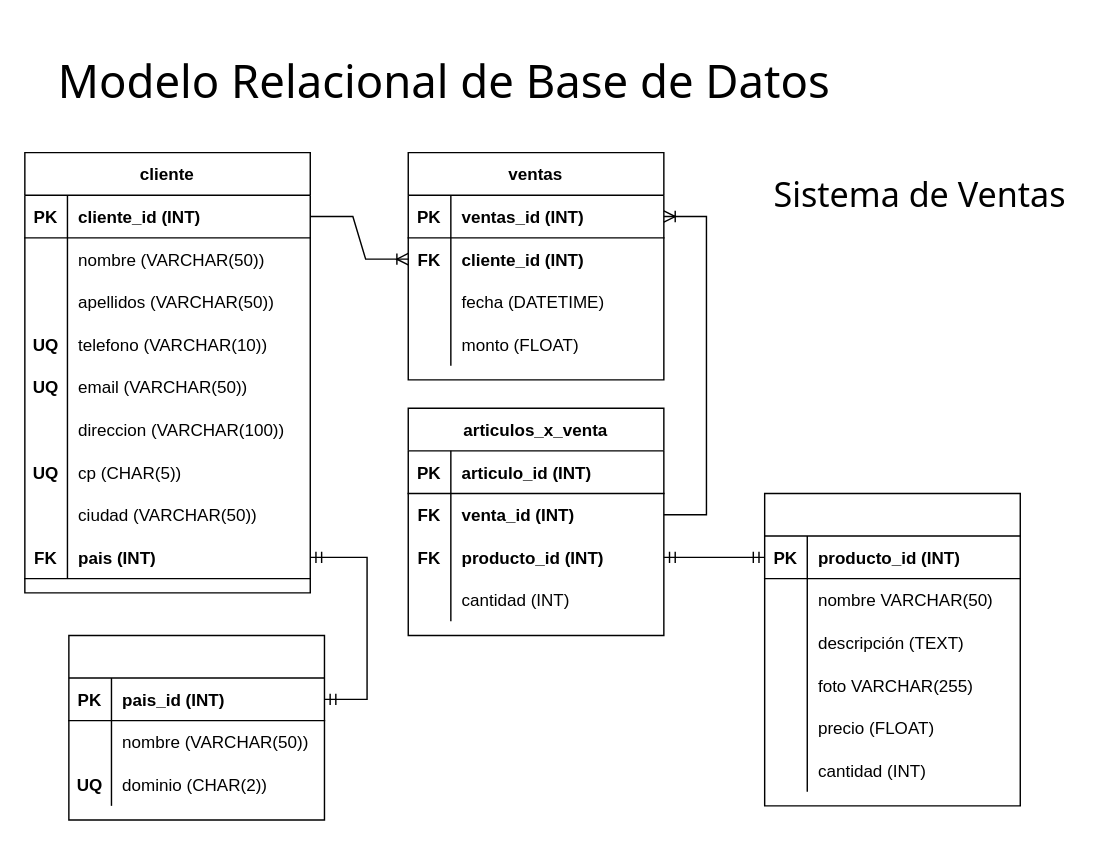
Some shapes in this 1101 by 845 pixel diagram are drawn without their labels. Here are the shapes that lost their labels. From the top down, the box of each, then its label:
(763, 492, 1020, 806): productos
(67, 634, 324, 820): paises
